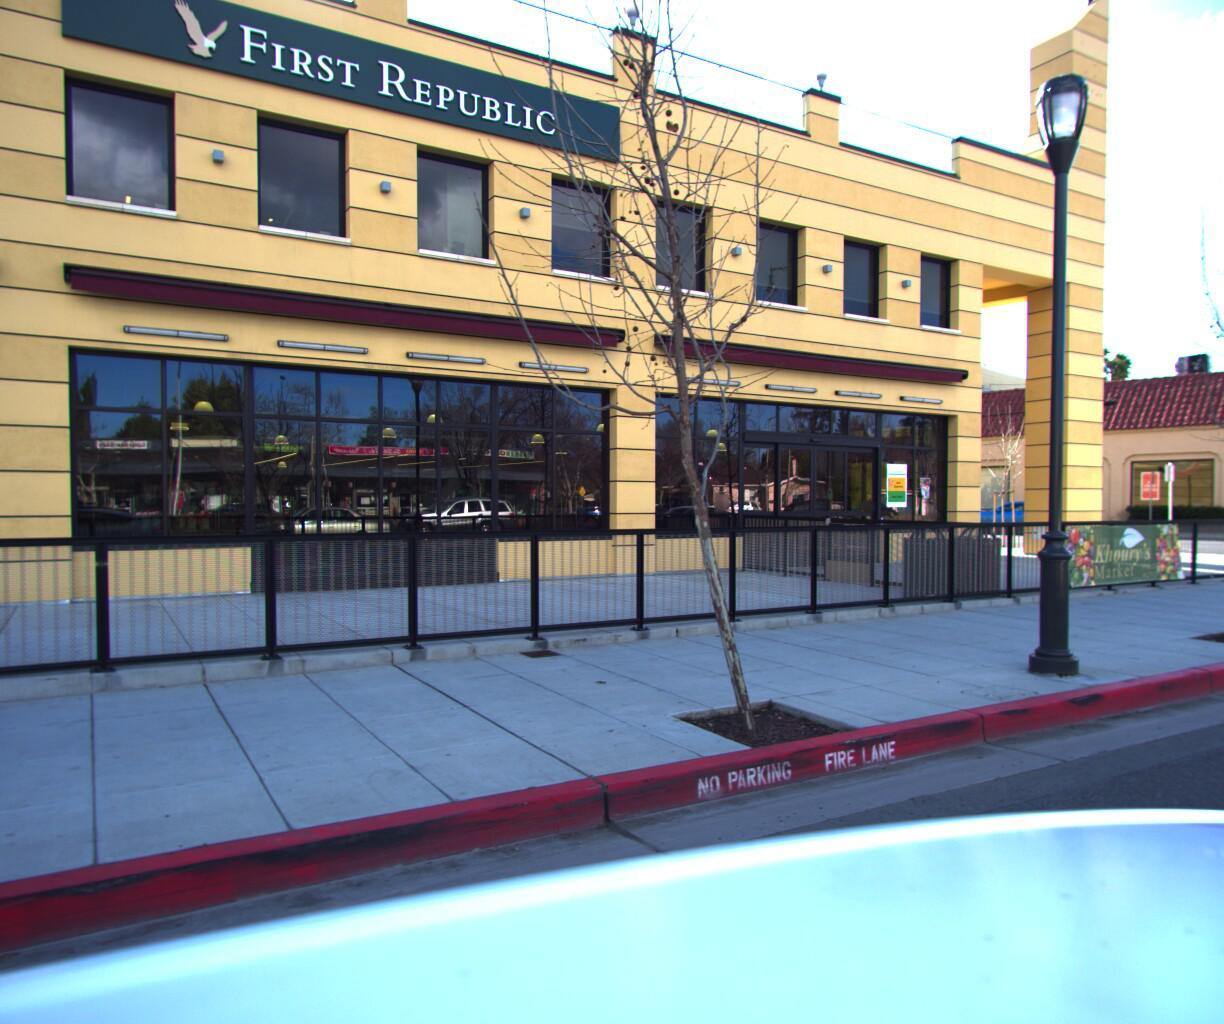car: (951, 502, 1093, 539), (711, 498, 805, 530)
